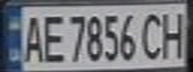5: (103, 10, 124, 62)
6: (118, 10, 142, 61)
7: (63, 10, 87, 63)
8: (84, 11, 106, 63)
A: (18, 11, 48, 64)
C: (139, 8, 169, 61)
E: (39, 11, 66, 64)
H: (157, 7, 190, 60)
